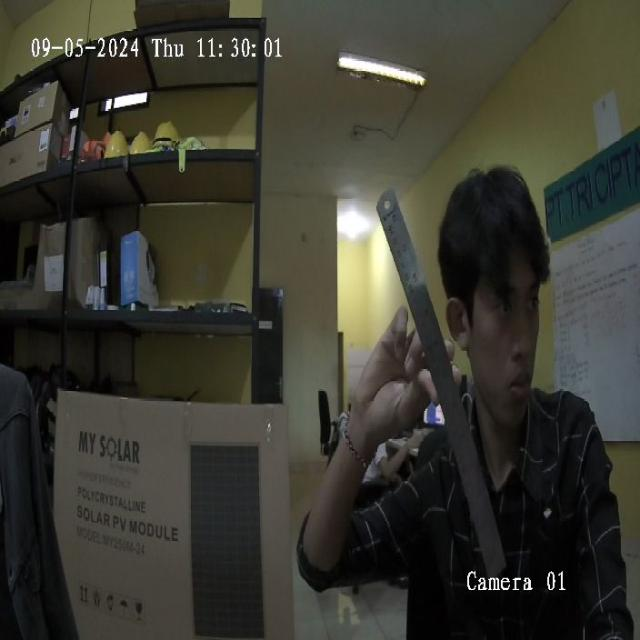Ruler: (377, 190, 505, 576)
